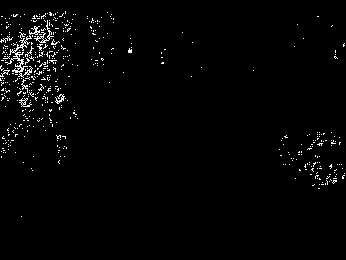person: (47, 95, 78, 164)
